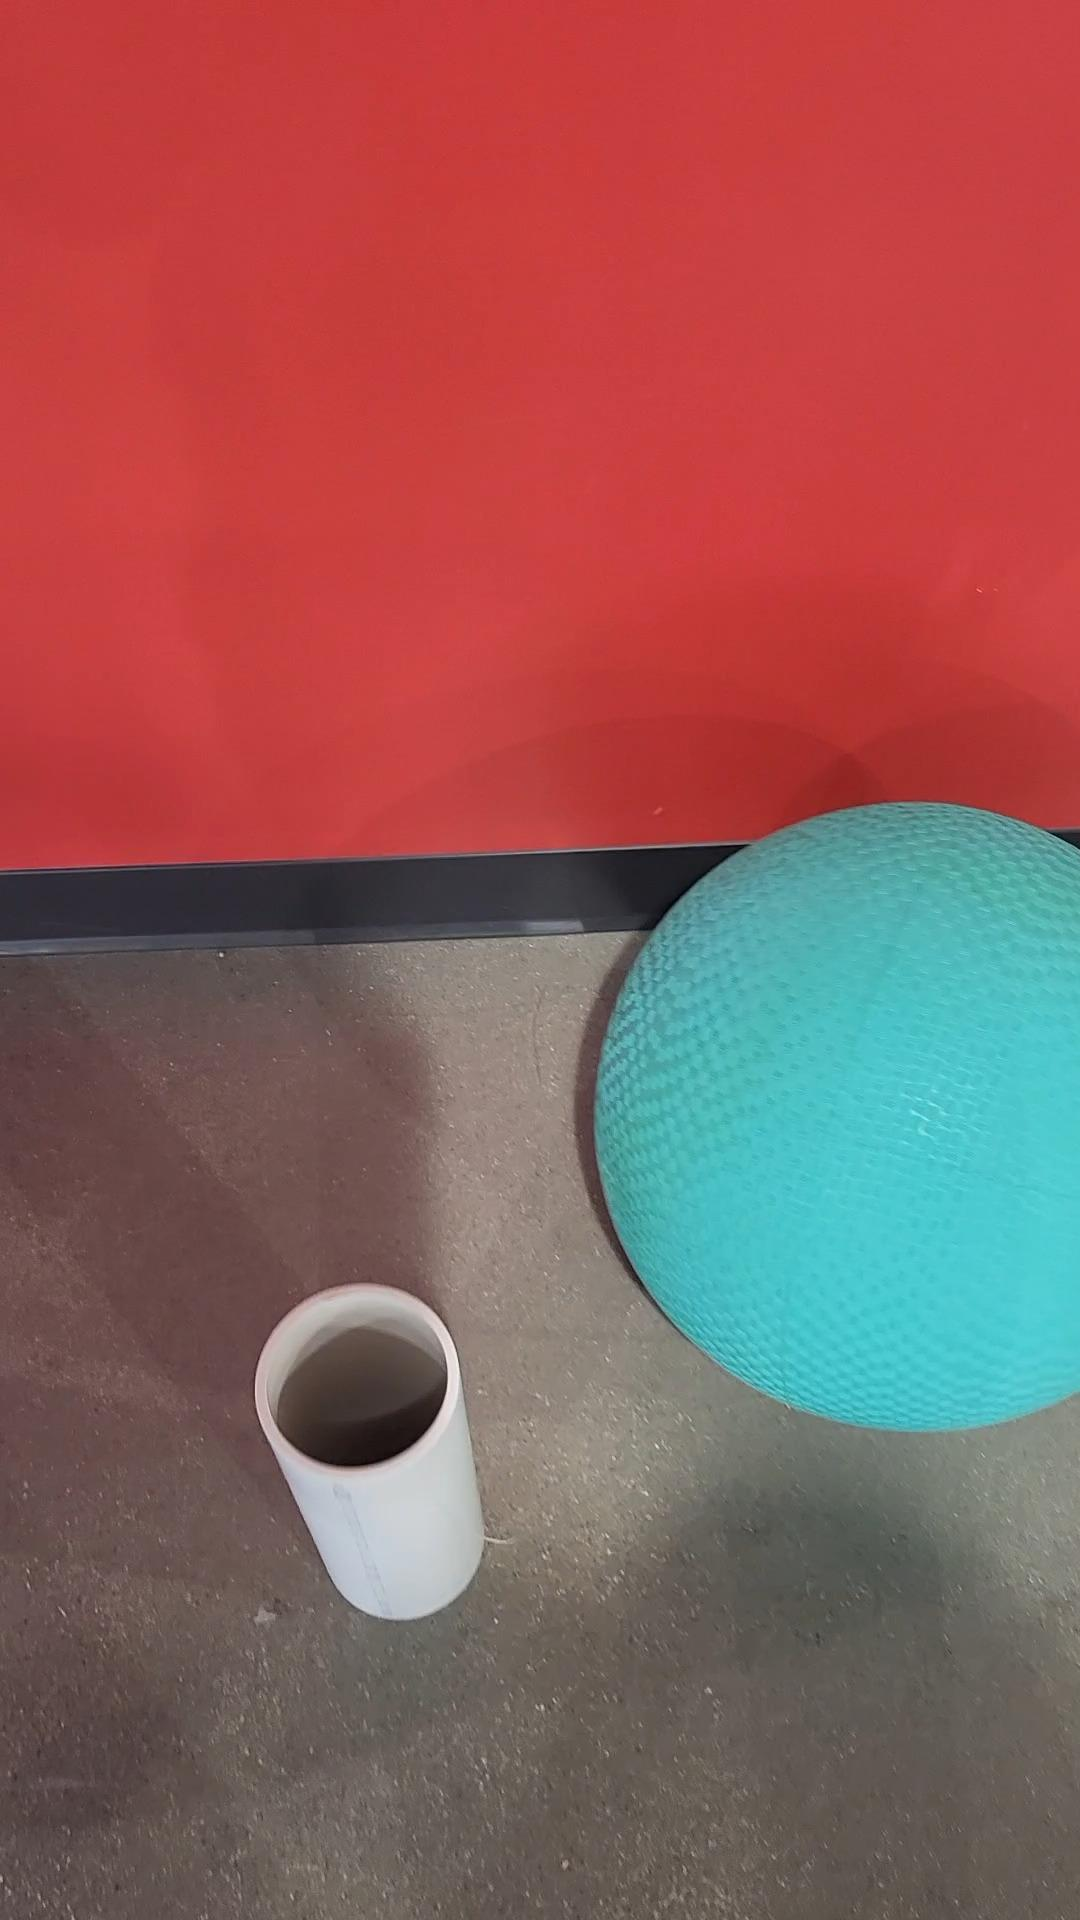algae: (592, 800, 1079, 1433)
coral: (249, 1280, 485, 1621)
